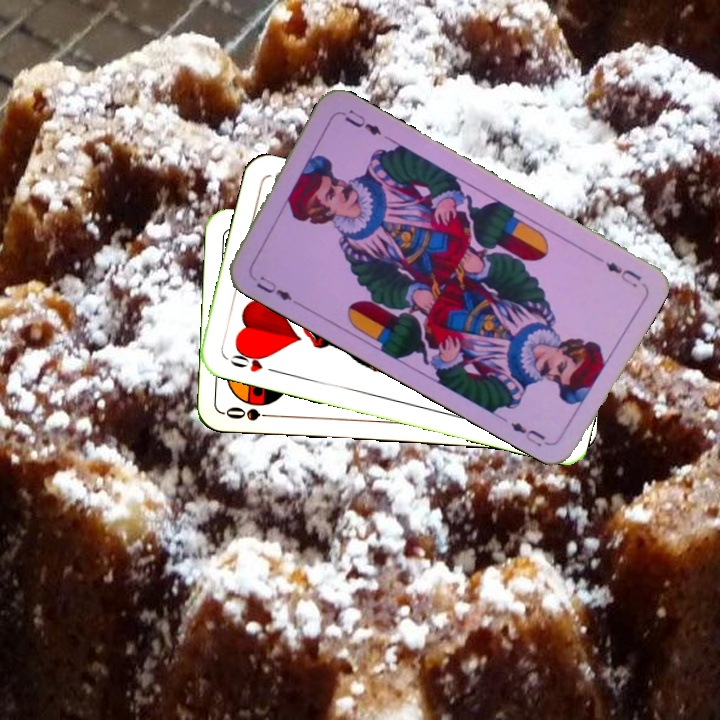EU: (591, 252, 644, 290), (252, 272, 300, 308)
HO: (226, 345, 281, 376)
SO: (222, 402, 281, 423)
